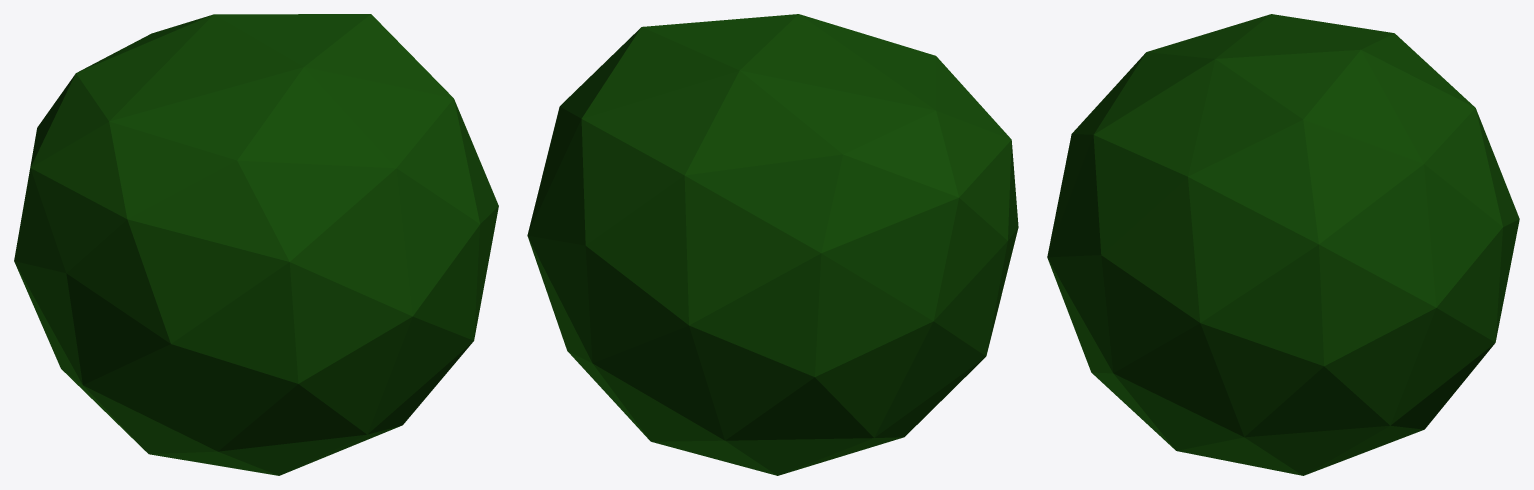
3 views of the same model, side by side, from view 1: azimuth 30°, elevation 25°; view 2: azimuth 150°, elevation 25°; view 3: azimuth 270°, elevation 25° (orthographic). The views are drawn at different scales.
Visible parts, largest first — view 1: Icosphere.012; view 2: Icosphere.012; view 3: Icosphere.012.
Part boxes in pixels (x1,y1,x2,y2): Icosphere.012: (14, 14, 498, 475); Icosphere.012: (527, 14, 1018, 475); Icosphere.012: (1047, 14, 1519, 475).
Bounding box in the file's own units: 1.14 × 1.04 × 1.13.
